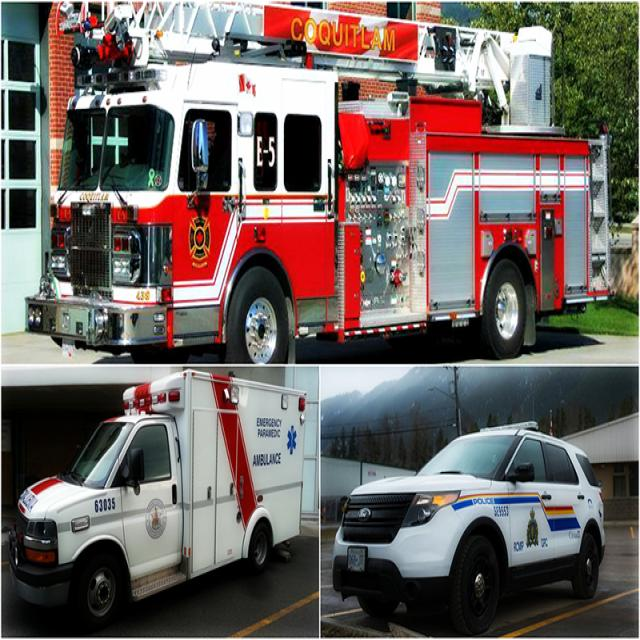car: (332, 423, 605, 634)
emergency: (26, 0, 609, 361), (9, 369, 306, 626)
